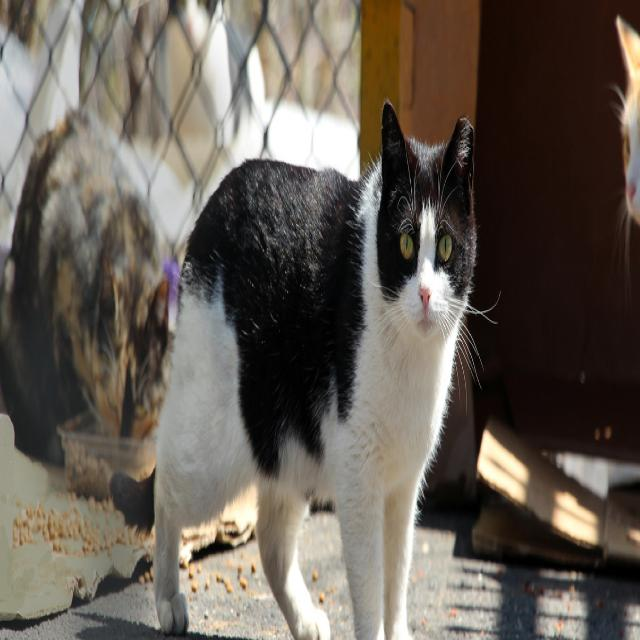cat: (111, 101, 476, 637), (0, 110, 169, 460), (615, 15, 640, 225)
